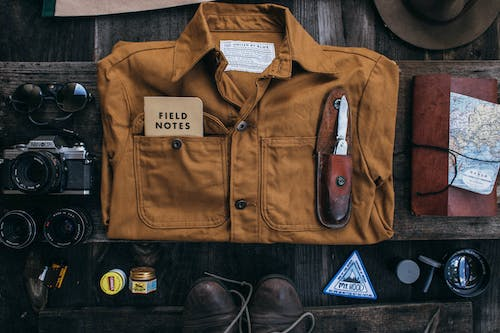knife: (333, 93, 351, 155)
